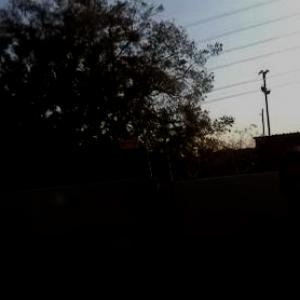follow: (249, 141, 300, 299)
